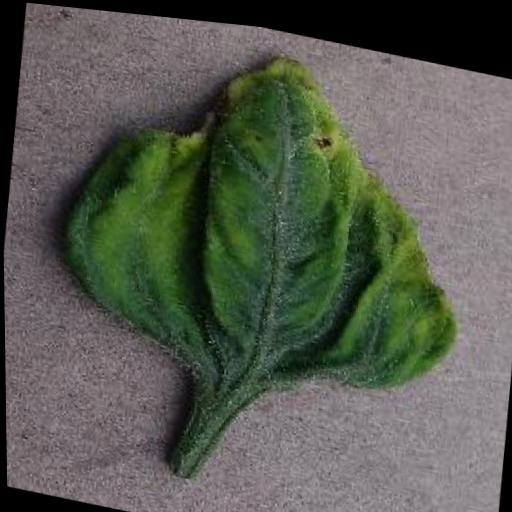Yellow Leaf Curl Virus: (42, 3, 484, 410)
